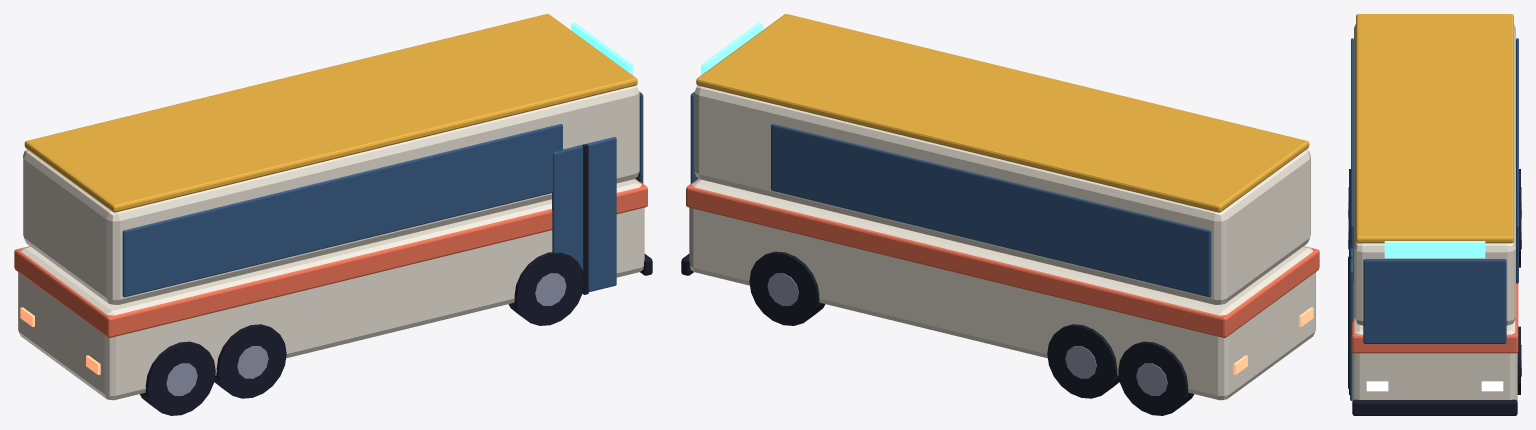
Rendered from city_bus.glb.
3 renders of one model, left to right at view 1: azimuth 30°, elevation 25°; view 2: azimuth 150°, elevation 25°; view 3: azimuth 270°, elevation 25°, orthographic. The views are drawn at different scales.
Parts seen in each view (by area): view 1: roofLine, lower, winL, upper, band, door, wheel-2.8-1, wheel-1.8-1, wheel2.4-1, doorFrame, hub2.4-1, hub-2.8-1 (+2 smaller); view 2: roofLine, lower, winR, upper, band, wheel2.41, wheel-2.81, wheel-1.81, hub2.41, hub-2.81, hub-1.81, dest; view 3: roofLine, windshield, lower, upper, bumper, band, dest, winR, winL, door, doorFrame, head-1 (+2 smaller).
Boxes of the visible parts, x1,y1,x2,y2 form: roofLine: (24, 14, 637, 212); lower: (18, 179, 644, 400); winL: (122, 124, 562, 297); upper: (23, 85, 639, 304); band: (14, 178, 647, 337); door: (552, 137, 616, 293); wheel-2.8-1: (140, 341, 215, 415); wheel-1.8-1: (214, 324, 286, 398); wheel2.4-1: (508, 252, 583, 325); doorFrame: (582, 144, 588, 294); hub2.4-1: (535, 273, 566, 306); hub-2.8-1: (166, 363, 197, 395); roofLine: (696, 14, 1309, 212); lower: (689, 179, 1315, 400); winR: (771, 124, 1211, 297); upper: (694, 85, 1310, 304); band: (686, 178, 1319, 337); wheel2.41: (749, 251, 825, 325); wheel-2.81: (1118, 341, 1193, 415); wheel-1.81: (1047, 324, 1119, 398); hub2.41: (767, 273, 798, 306); hub-2.81: (1136, 363, 1167, 395); hub-1.81: (1065, 346, 1096, 378); dest: (701, 22, 762, 75); roofLine: (1356, 14, 1513, 243); windshield: (1363, 259, 1506, 343); lower: (1352, 320, 1517, 401); upper: (1354, 24, 1515, 325); bumper: (1352, 399, 1517, 415); band: (1351, 283, 1518, 353); dest: (1384, 241, 1485, 258); winR: (1516, 38, 1518, 283); winL: (1351, 38, 1353, 282); door: (1350, 244, 1353, 400); doorFrame: (1348, 256, 1352, 388); head-1: (1366, 381, 1388, 391).
Size of the model in its own units: 7.71 by 2.98 by 2.42.
